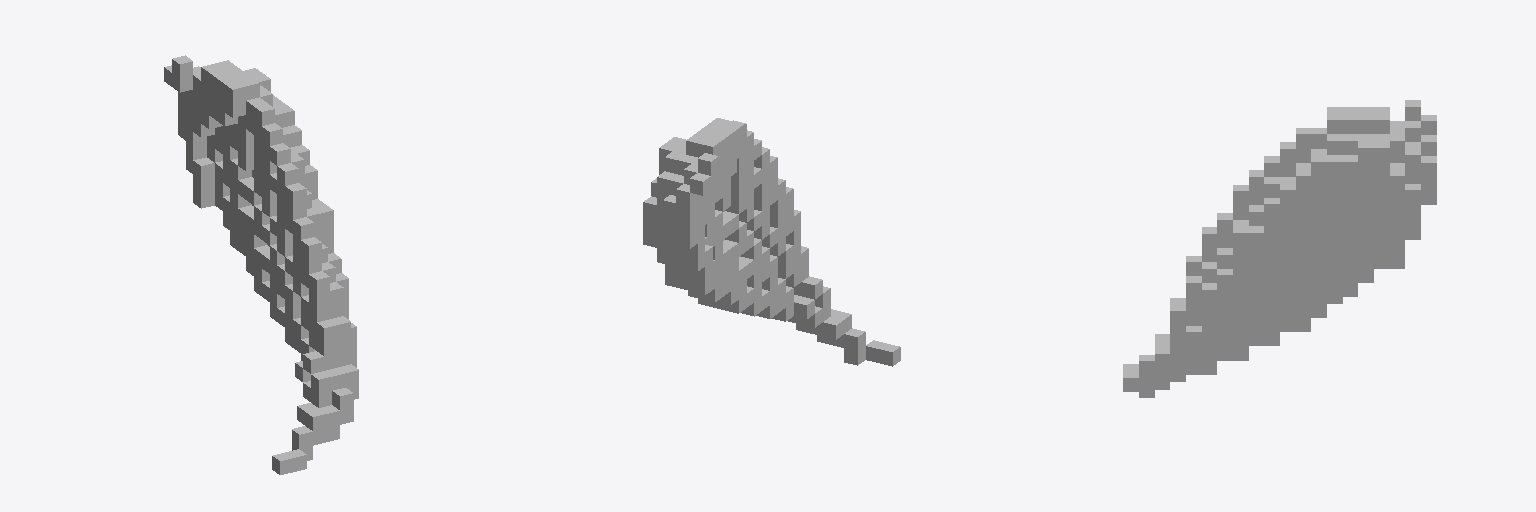
Rendered from object・・wing.obj.
3 views of the same model, side by side, from view 1: azimuth 30°, elevation 25°; view 2: azimuth 150°, elevation 25°; view 3: azimuth 270°, elevation 25° (orthographic).
Visible parts, largest first — view 1: object 1; view 2: object 1; view 3: object 1.
Part boxes in pixels (left/top/right/bottom): object 1: left=164, top=55, right=358, bottom=474; object 1: left=643, top=118, right=900, bottom=366; object 1: left=1123, top=100, right=1436, bottom=397.
Bounding box in the file's own units: 0.8 × 2.1 × 2.